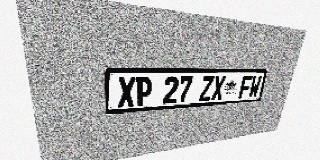2: (163, 77, 179, 104)
7: (177, 76, 193, 103)
F: (238, 76, 253, 98)
P: (135, 77, 152, 106)
W: (248, 76, 262, 98)
X: (118, 77, 135, 108), (211, 76, 226, 100)
Z: (199, 76, 214, 101)
